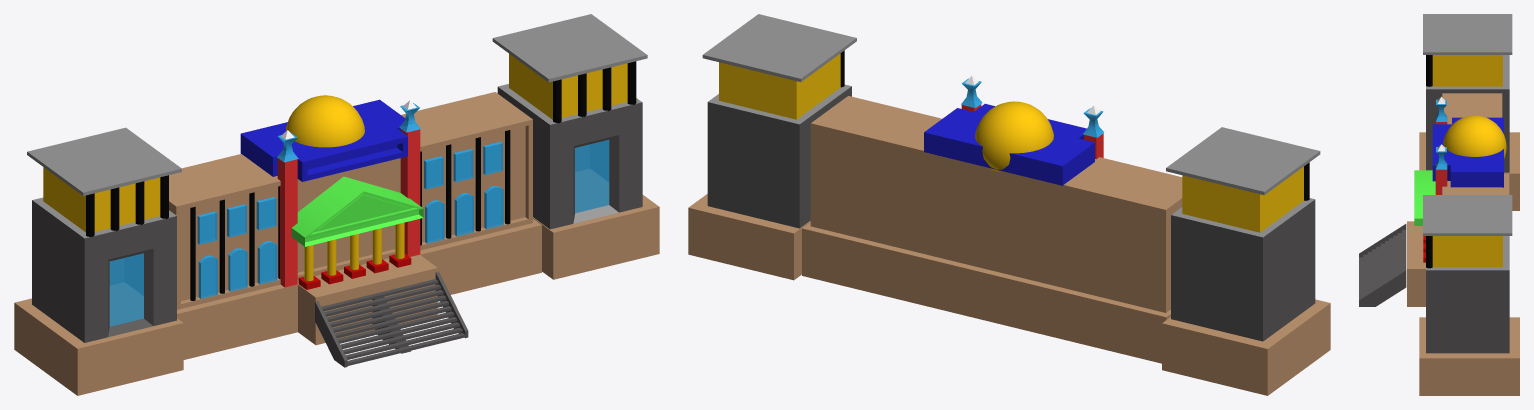
Rendered from Berlin.FBX.
3 views of the same model, side by side, from view 1: azimuth 30°, elevation 25°; view 2: azimuth 150°, elevation 25°; view 3: azimuth 270°, elevation 25° (orthographic). The views are drawn at different scales.
Visible parts, largest first — view 1: Box001, Box019, Box018, Box020, StraightStair001, Box017, Box014, Cylinder001, Sphere001, Box012, Box013, Box032 (+17 smaller); view 2: Box001, Box019, Box018, Box020, Box017, Box014, Sphere001; view 3: Box018, Box019, Box017, Box001, StraightStair001, Box014, Sphere001, Box020, Cylinder001, Box013, Cylinder018, Cylinder022 (+2 smaller).
Part boxes in pixels (x1,y1,x2,y2): Box001: (169, 92, 541, 359); Box019: (27, 127, 181, 342); Box018: (492, 14, 647, 229); Box020: (14, 283, 183, 395); StraightStair001: (315, 271, 468, 367); Box017: (533, 169, 659, 279); Box014: (240, 99, 407, 181); Cylinder001: (291, 176, 423, 246); Sphere001: (286, 95, 364, 147); Box012: (277, 158, 297, 287); Box013: (400, 129, 420, 256); Box032: (257, 241, 277, 284); Box001: (802, 96, 1182, 363); Box019: (1166, 127, 1320, 341); Box018: (702, 14, 856, 228); Box020: (1162, 299, 1330, 395); Box017: (688, 194, 810, 280); Box014: (924, 103, 1094, 185); Sphere001: (975, 101, 1053, 172); Box018: (1423, 195, 1512, 353); Box019: (1423, 14, 1512, 172); Box017: (1419, 317, 1519, 395); Box001: (1407, 93, 1509, 306); StraightStair001: (1359, 224, 1406, 306); Box014: (1432, 117, 1503, 187); Sphere001: (1443, 115, 1506, 159); Box020: (1419, 132, 1519, 210); Cylinder001: (1414, 170, 1435, 225); Box013: (1435, 169, 1447, 194); Cylinder018: (1426, 236, 1432, 268); Cylinder022: (1426, 55, 1432, 86).
Bounding box in the file's own units: 465 × 155 × 140.
